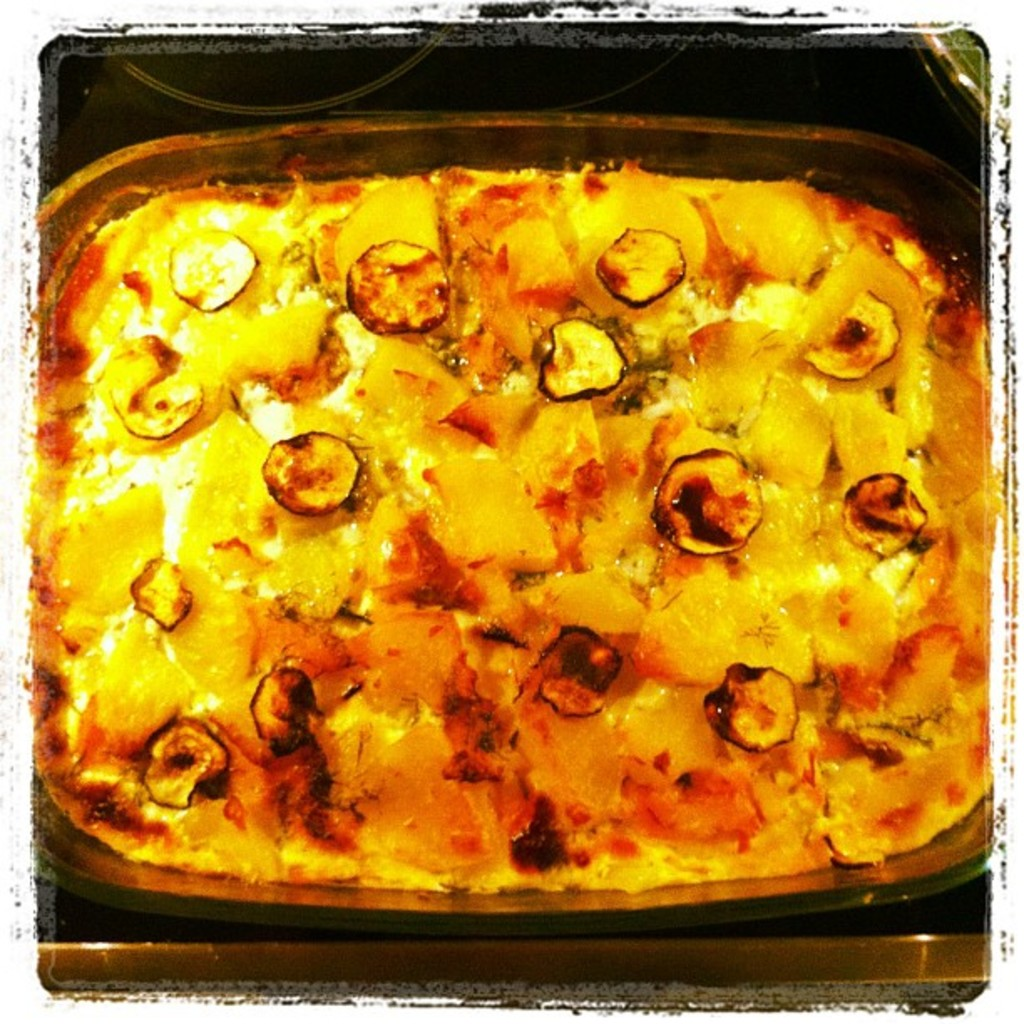Pizza: (13, 137, 1003, 926)
